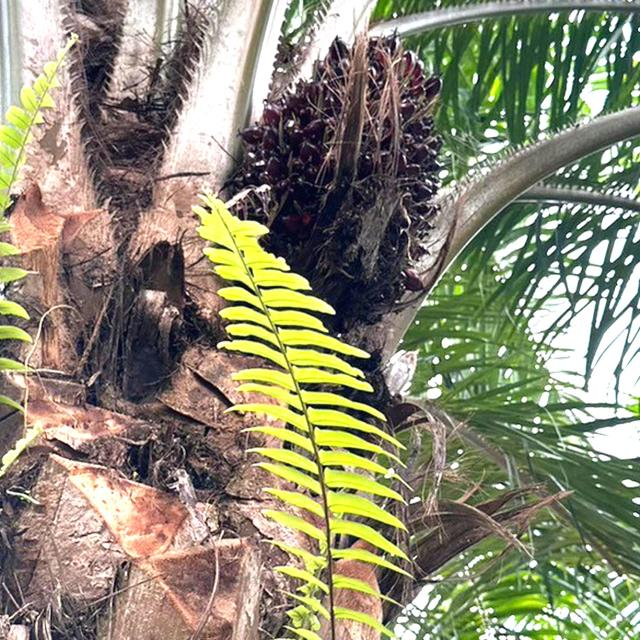ripe: (231, 27, 450, 318)
